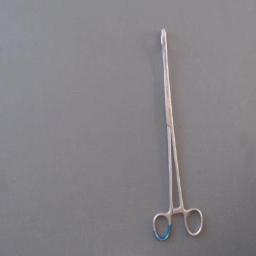Sponge Forceps: (148, 22, 208, 244)
